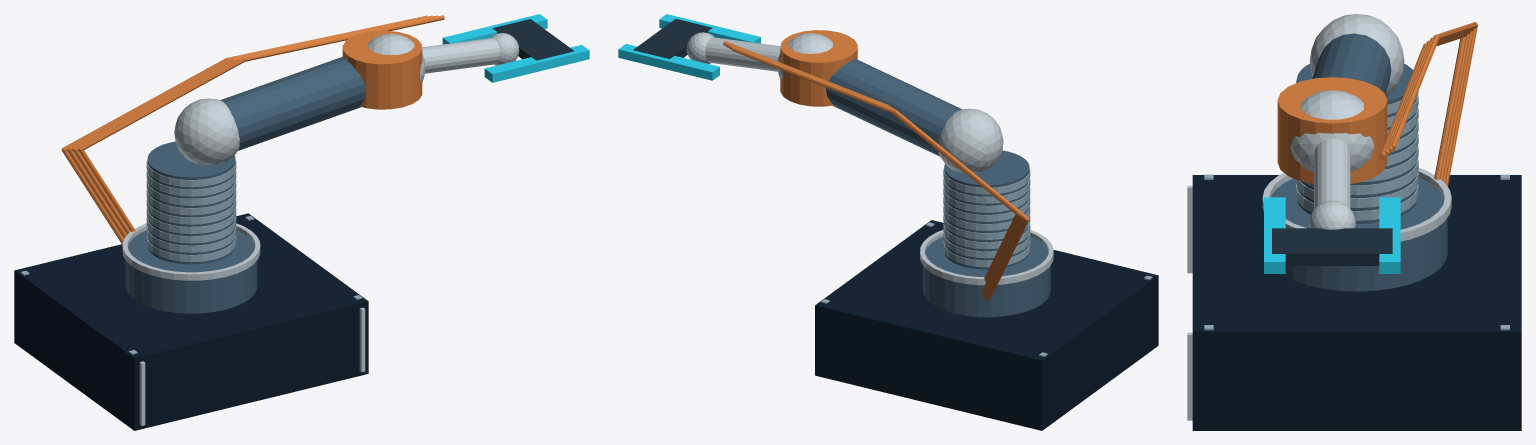
The model's file is 13_L73_AutomatedWaferTransferRobot.fbx.
The picture shows the model from 3 angles, left to right: view 1: azimuth 30°, elevation 25°; view 2: azimuth 150°, elevation 25°; view 3: azimuth 270°, elevation 25°; orthographic projection. The views are drawn at different scales.
Parts seen in each view (by area): view 1: AutomatedWaferTransferRobot, AutomatedWaferTransferRobot_Part_0019, AutomatedWaferTransferRobot_Part_0007, AutomatedWaferTransferRobot_Part_0022, AutomatedWaferTransferRobot_Part_0009, AutomatedWaferTransferRobot_Part_0020, AutomatedWaferTransferRobot_Part_0023, AutomatedWaferTransferRobot_Part_0008, AutomatedWaferTransferRobot_Part_0028, AutomatedWaferTransferRobot_Part_0027, AutomatedWaferTransferRobot_Part_0021, AutomatedWaferTransferRobot_Part_0026 (+10 smaller); view 2: AutomatedWaferTransferRobot, AutomatedWaferTransferRobot_Part_0019, AutomatedWaferTransferRobot_Part_0007, AutomatedWaferTransferRobot_Part_0022, AutomatedWaferTransferRobot_Part_0009, AutomatedWaferTransferRobot_Part_0020, AutomatedWaferTransferRobot_Part_0008, AutomatedWaferTransferRobot_Part_0023, AutomatedWaferTransferRobot_Part_0028, AutomatedWaferTransferRobot_Part_0026, AutomatedWaferTransferRobot_Part_0021, AutomatedWaferTransferRobot_Part_0027 (+10 smaller); view 3: AutomatedWaferTransferRobot, AutomatedWaferTransferRobot_Part_0007, AutomatedWaferTransferRobot_Part_0022, AutomatedWaferTransferRobot_Part_0028, AutomatedWaferTransferRobot_Part_0021, AutomatedWaferTransferRobot_Part_0019, AutomatedWaferTransferRobot_Part_0020, AutomatedWaferTransferRobot_Part_0023, AutomatedWaferTransferRobot_Part_0009, AutomatedWaferTransferRobot_Part_0008, AutomatedWaferTransferRobot_Part_0026, AutomatedWaferTransferRobot_Part_0027 (+6 smaller).
Part boxes in pixels (left/top/right/bottom): AutomatedWaferTransferRobot: left=14, top=15, right=444, bottom=430; AutomatedWaferTransferRobot_Part_0019: left=220, top=56, right=365, bottom=150; AutomatedWaferTransferRobot_Part_0007: left=125, top=230, right=257, bottom=313; AutomatedWaferTransferRobot_Part_0022: left=342, top=30, right=422, bottom=109; AutomatedWaferTransferRobot_Part_0009: left=147, top=141, right=235, bottom=264; AutomatedWaferTransferRobot_Part_0020: left=174, top=98, right=239, bottom=164; AutomatedWaferTransferRobot_Part_0023: left=422, top=38, right=499, bottom=73; AutomatedWaferTransferRobot_Part_0008: left=122, top=223, right=260, bottom=280; AutomatedWaferTransferRobot_Part_0028: left=492, top=19, right=574, bottom=60; AutomatedWaferTransferRobot_Part_0027: left=484, top=45, right=589, bottom=82; AutomatedWaferTransferRobot_Part_0021: left=368, top=33, right=425, bottom=82; AutomatedWaferTransferRobot_Part_0026: left=442, top=14, right=547, bottom=44; AutomatedWaferTransferRobot: left=723, top=41, right=1158, bottom=430; AutomatedWaferTransferRobot_Part_0019: left=826, top=59, right=961, bottom=156; AutomatedWaferTransferRobot_Part_0007: left=923, top=236, right=1050, bottom=317; AutomatedWaferTransferRobot_Part_0022: left=780, top=30, right=857, bottom=106; AutomatedWaferTransferRobot_Part_0009: left=944, top=150, right=1029, bottom=269; AutomatedWaferTransferRobot_Part_0020: left=938, top=108, right=1003, bottom=172; AutomatedWaferTransferRobot_Part_0008: left=920, top=229, right=1053, bottom=285; AutomatedWaferTransferRobot_Part_0023: left=705, top=37, right=780, bottom=71; AutomatedWaferTransferRobot_Part_0028: left=633, top=19, right=712, bottom=58; AutomatedWaferTransferRobot_Part_0026: left=618, top=44, right=719, bottom=80; AutomatedWaferTransferRobot_Part_0021: left=777, top=33, right=833, bottom=80; AutomatedWaferTransferRobot_Part_0027: left=659, top=14, right=760, bottom=43; AutomatedWaferTransferRobot: left=1187, top=22, right=1521, bottom=430; AutomatedWaferTransferRobot_Part_0007: left=1271, top=177, right=1447, bottom=291; AutomatedWaferTransferRobot_Part_0022: left=1277, top=77, right=1387, bottom=183; AutomatedWaferTransferRobot_Part_0028: left=1272, top=228, right=1392, bottom=265; AutomatedWaferTransferRobot_Part_0021: left=1290, top=90, right=1374, bottom=171; AutomatedWaferTransferRobot_Part_0019: left=1312, top=33, right=1391, bottom=94; AutomatedWaferTransferRobot_Part_0020: left=1309, top=14, right=1404, bottom=97; AutomatedWaferTransferRobot_Part_0023: left=1314, top=138, right=1350, bottom=209; AutomatedWaferTransferRobot_Part_0009: left=1296, top=63, right=1417, bottom=223; AutomatedWaferTransferRobot_Part_0008: left=1262, top=168, right=1451, bottom=241; AutomatedWaferTransferRobot_Part_0026: left=1379, top=197, right=1400, bottom=273; AutomatedWaferTransferRobot_Part_0027: left=1264, top=197, right=1285, bottom=273.
Bounding box in the file's own units: 278 × 155 × 122.
